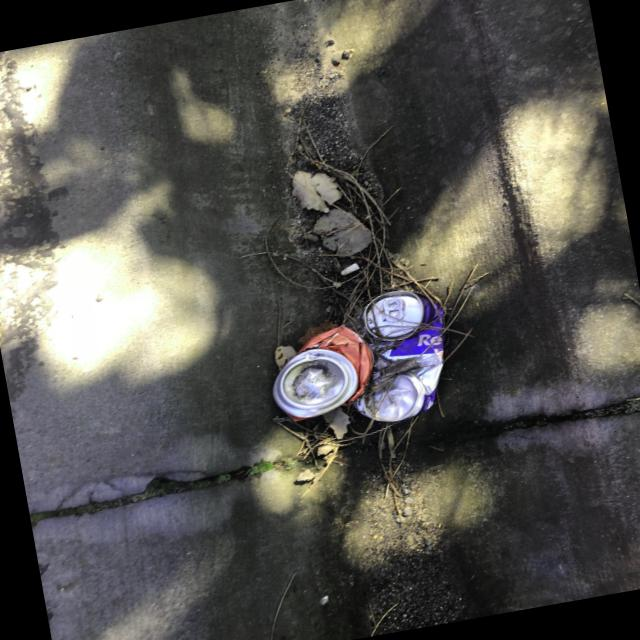less trash: (355, 290, 444, 422), (272, 326, 373, 420)
